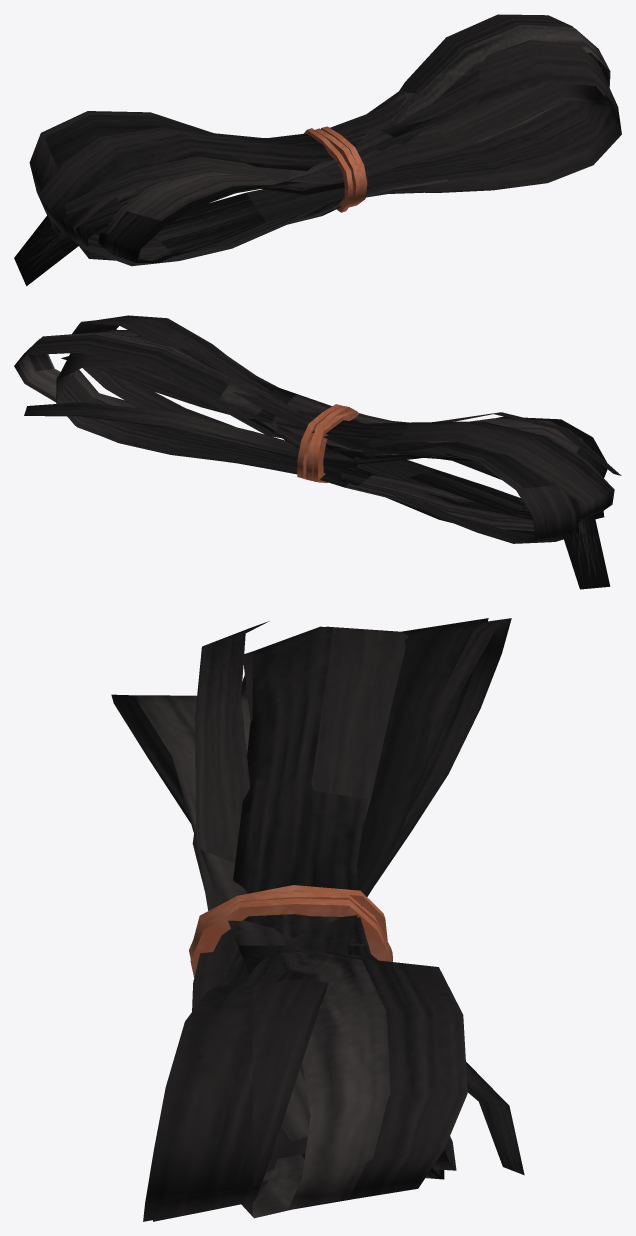
Rendered from hair_ritual.fbx.
3 views of the same model, one above another, from view 1: azimuth 30°, elevation 25°; view 2: azimuth 150°, elevation 25°; view 3: azimuth 270°, elevation 25° (orthographic). The views are drawn at different scales.
Parts seen in each view (by area): view 1: Hair; view 2: Hair; view 3: Hair.
Part boxes in pixels (x1,y1,x2,y2): Hair: [14, 14, 621, 286]; Hair: [14, 315, 621, 589]; Hair: [111, 618, 524, 1221].
Bounding box in the file's own units: 12.2 × 2.71 × 3.8.
